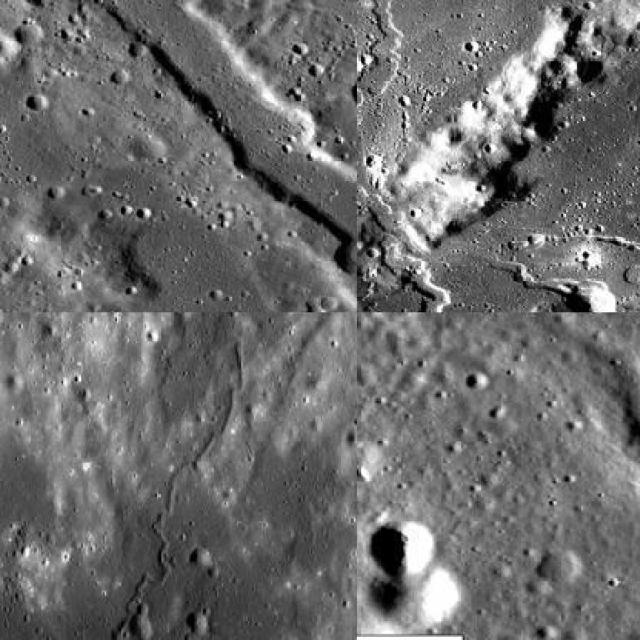rille: (0, 312, 314, 638), (357, 0, 638, 311), (110, 0, 356, 311), (391, 312, 638, 498), (357, 0, 465, 311)
